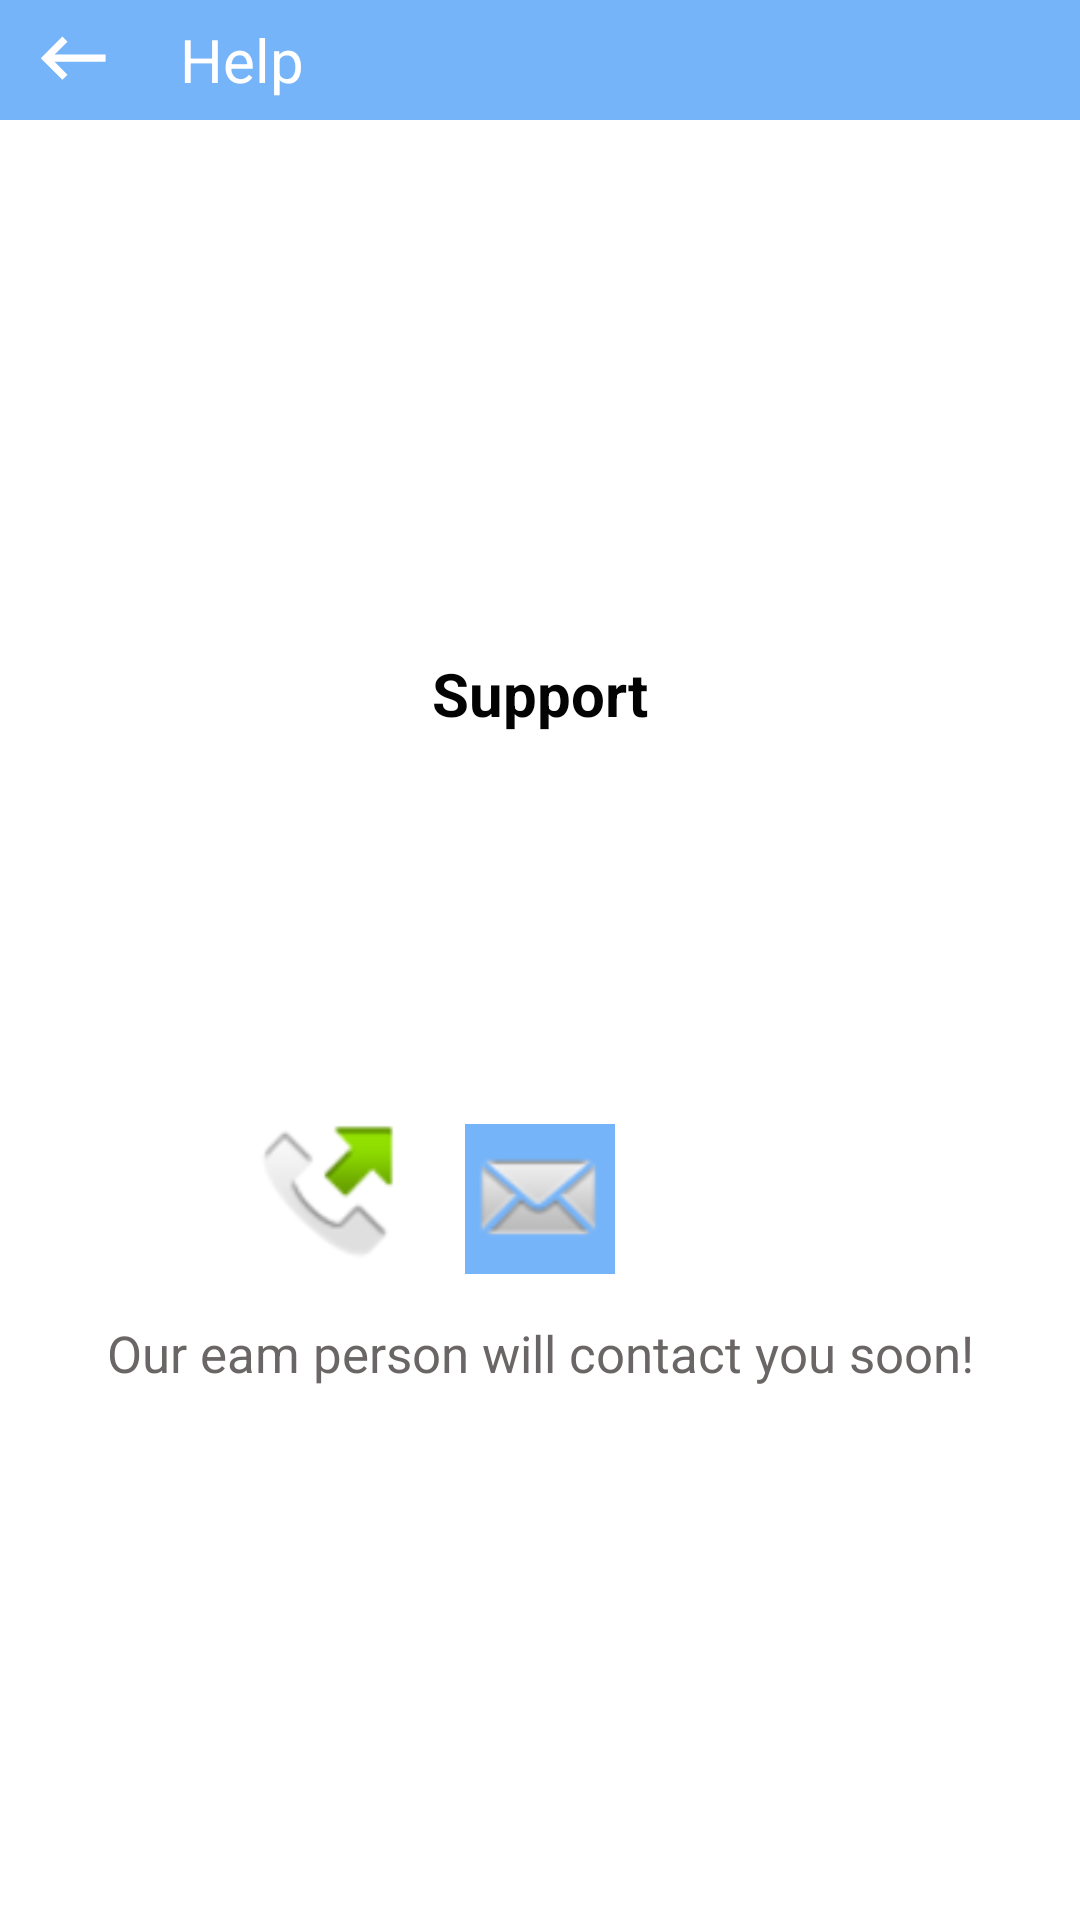

Point at icon controls on the screen. Image size 1080×1920, points as (x,y).
back click arrow: (73,58)
sym action email: (540,1199)
sym call outgoing: (329,1189)
